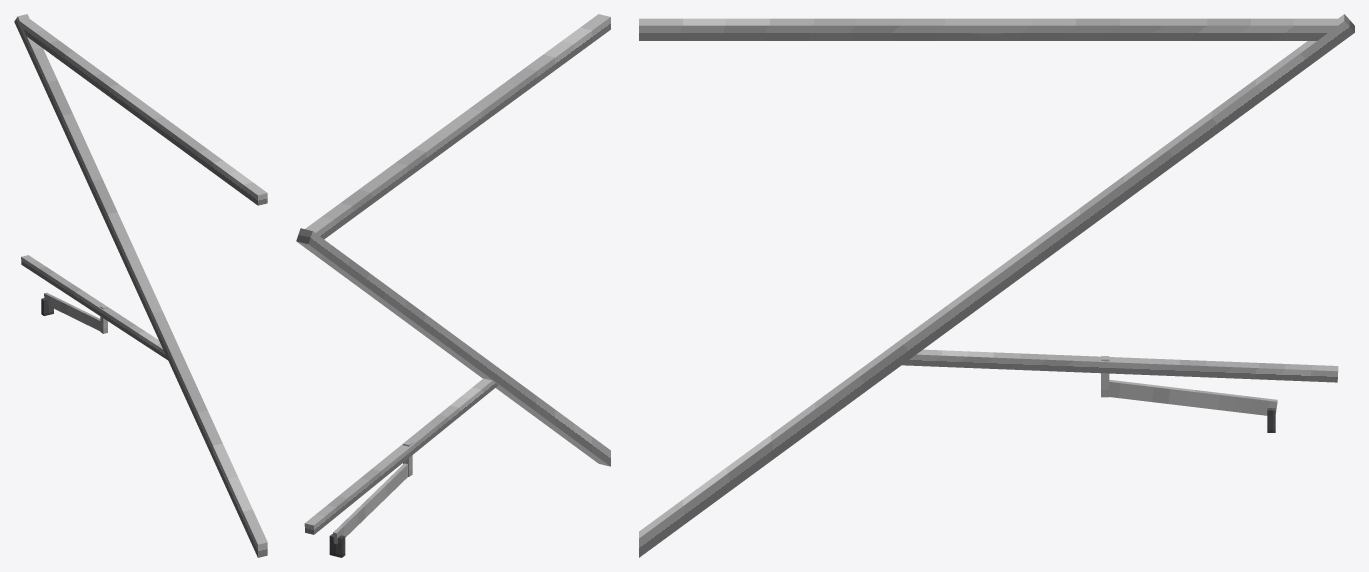
The model's file is cantilever_inner_12px.obj.
3 renders of one model, left to right at view 1: azimuth 30°, elevation 25°; view 2: azimuth 150°, elevation 25°; view 3: azimuth 270°, elevation 25°, orthographic. The views are drawn at different scales.
Parts seen in each view (by area): view 1: 53f9920e-7eaa-4484-90ee-a8c2a7124e91, 2e218edf-45b3-4640-aaa3-a22f177c377f, 678e2340-6f91-4573-bc22-9d63185b7345, 622725bf-c738-4df5-8d46-40772249662c; view 2: 2e218edf-45b3-4640-aaa3-a22f177c377f, 53f9920e-7eaa-4484-90ee-a8c2a7124e91, 678e2340-6f91-4573-bc22-9d63185b7345, 622725bf-c738-4df5-8d46-40772249662c; view 3: 53f9920e-7eaa-4484-90ee-a8c2a7124e91, 2e218edf-45b3-4640-aaa3-a22f177c377f, 678e2340-6f91-4573-bc22-9d63185b7345, 622725bf-c738-4df5-8d46-40772249662c.
Part boxes in pixels (x1,y1,x2,y2): 53f9920e-7eaa-4484-90ee-a8c2a7124e91: [14, 14, 267, 557]; 2e218edf-45b3-4640-aaa3-a22f177c377f: [20, 19, 267, 205]; 678e2340-6f91-4573-bc22-9d63185b7345: [21, 255, 167, 359]; 622725bf-c738-4df5-8d46-40772249662c: [44, 292, 100, 330]; 2e218edf-45b3-4640-aaa3-a22f177c377f: [305, 14, 610, 239]; 53f9920e-7eaa-4484-90ee-a8c2a7124e91: [296, 228, 610, 466]; 678e2340-6f91-4573-bc22-9d63185b7345: [304, 378, 498, 534]; 622725bf-c738-4df5-8d46-40772249662c: [333, 463, 407, 544]; 53f9920e-7eaa-4484-90ee-a8c2a7124e91: [639, 14, 1354, 557]; 2e218edf-45b3-4640-aaa3-a22f177c377f: [639, 18, 1337, 40]; 678e2340-6f91-4573-bc22-9d63185b7345: [902, 349, 1338, 382]; 622725bf-c738-4df5-8d46-40772249662c: [1109, 379, 1277, 415].
Size of the model in its own units: 0.0625 by 2.23 by 2.69.
